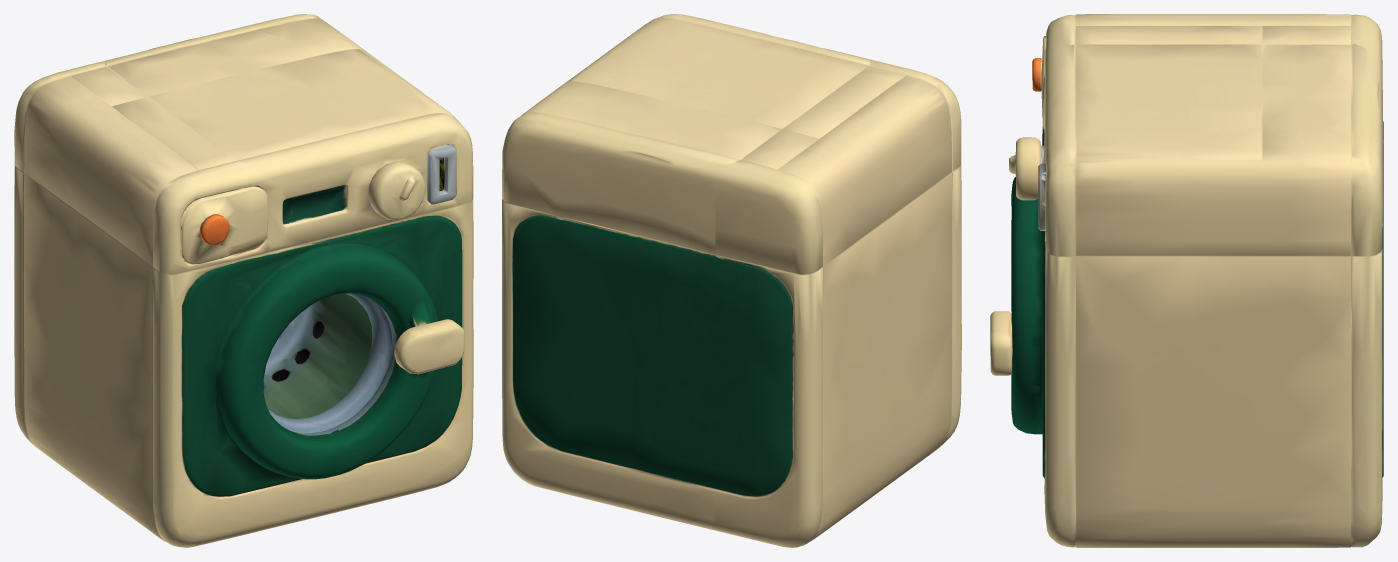
Rendered from Washer.fbx.
3 views of the same model, side by side, from view 1: azimuth 30°, elevation 25°; view 2: azimuth 150°, elevation 25°; view 3: azimuth 270°, elevation 25° (orthographic). The views are drawn at different scales.
Parts seen in each view (by area): view 1: Washer; view 2: Washer; view 3: Washer.
Part boxes in pixels (x1,y1,x2,y2): Washer: [14, 14, 473, 547]; Washer: [502, 14, 961, 547]; Washer: [990, 14, 1383, 547].
Bounding box in the file's own units: 0.882 × 1 × 0.8957.
Materials: 1 (1 with a texture image).
